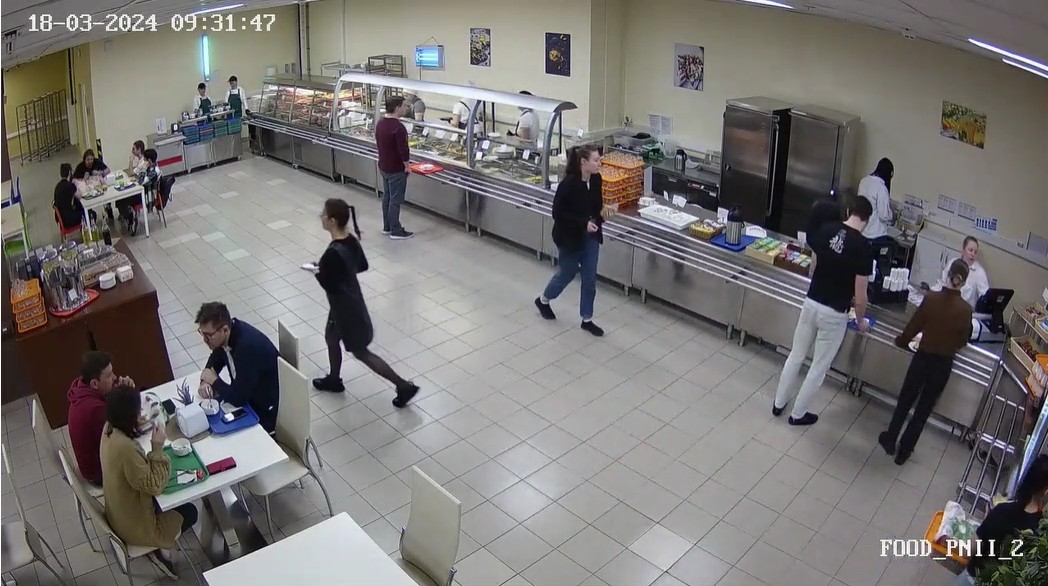Na_Kasse: (692, 188, 903, 428), (803, 251, 1004, 461)
Ne_v_Ocheredi: (295, 198, 414, 412)
Personal: (869, 153, 904, 238), (940, 226, 995, 273), (498, 91, 537, 139), (183, 72, 215, 129), (220, 72, 248, 119), (454, 94, 485, 134)
Vybiraet: (531, 135, 614, 349), (369, 82, 427, 245)
Za_Stolom: (183, 297, 285, 443), (96, 380, 171, 539), (55, 350, 123, 493), (49, 162, 86, 232), (67, 139, 112, 177), (134, 151, 167, 201), (124, 137, 148, 177)
